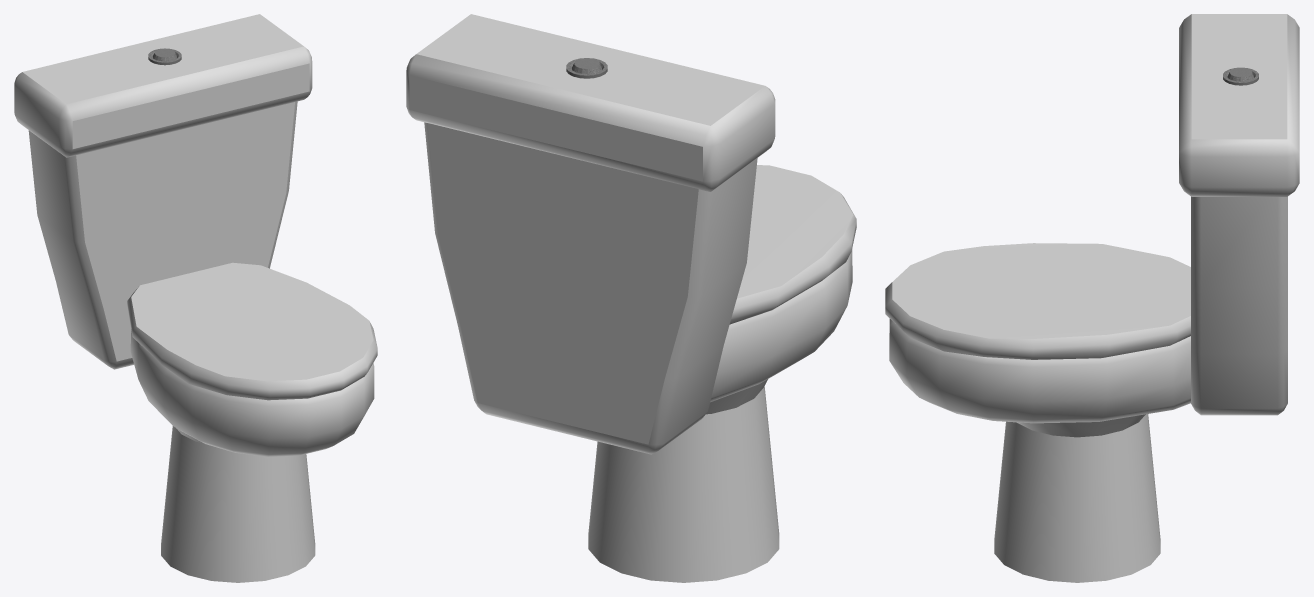
The model's file is Toilet.FBX.
The picture shows the model from 3 angles, left to right: view 1: azimuth 30°, elevation 25°; view 2: azimuth 150°, elevation 25°; view 3: azimuth 270°, elevation 25°; orthographic projection. The views are drawn at different scales.
Parts seen in each view (by area): view 1: Toilet; view 2: Toilet; view 3: Toilet.
Boxes of the visible parts, x1=… form: Toilet: x1=14, y1=14, x2=377, y2=582; Toilet: x1=406, y1=14, x2=856, y2=582; Toilet: x1=885, y1=14, x2=1299, y2=582.
Bounding box in the file's own units: 57.2 × 95.28 × 75.19.
2 materials, 1 textured.
